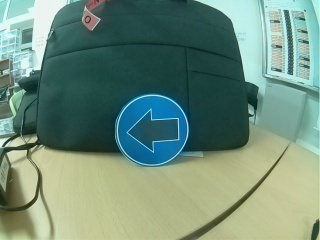left_turn: (113, 96, 191, 167)
